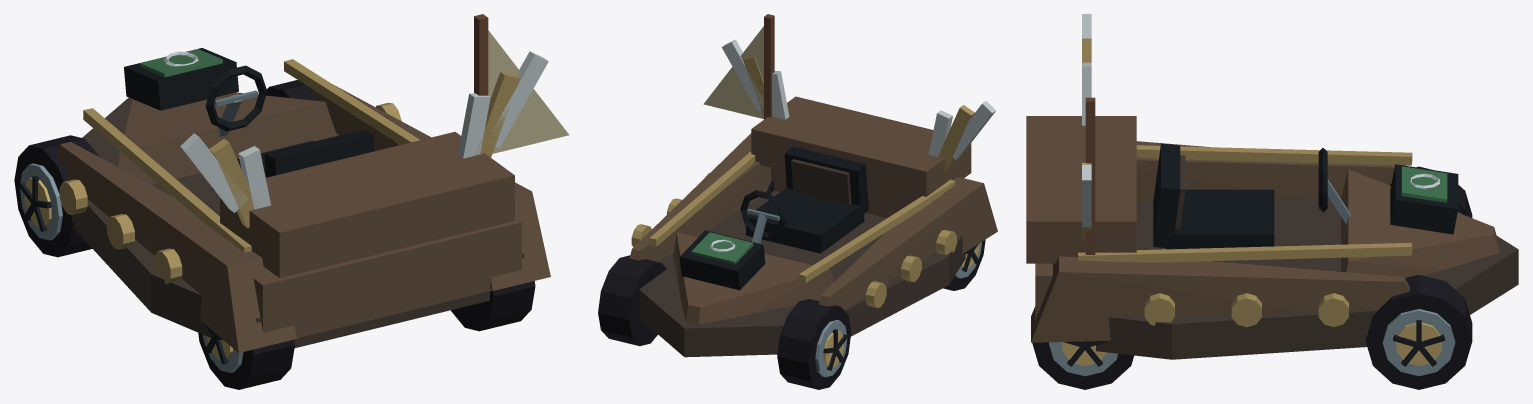
File: kart.glb
3 views of the same model, side by side, from view 1: azimuth 30°, elevation 25°; view 2: azimuth 150°, elevation 25°; view 3: azimuth 270°, elevation 25° (orthographic). The views are drawn at different scales.
Parts seen in each view (by area): view 1: identity-ship-ship-pointed-bow-and-raised-stern, identity-ship-motif-feathers, wheel-front-left, identity-ship-motif-scanner, identity-ship-driver-cockpit, identity-ship-motif-sail, wheel-rear-left, wheel-rear-right, wheel-front-right; view 2: identity-ship-ship-pointed-bow-and-raised-stern, identity-ship-driver-cockpit, wheel-front-left, identity-ship-motif-feathers, wheel-front-right, identity-ship-motif-scanner, identity-ship-motif-sail, wheel-rear-left; view 3: identity-ship-ship-pointed-bow-and-raised-stern, identity-ship-driver-cockpit, wheel-front-right, identity-ship-motif-scanner, wheel-rear-right, identity-ship-motif-feathers, identity-ship-motif-sail.
Boxes of the visible parts, box(x1,y1,x2,y2) form: identity-ship-ship-pointed-bow-and-raised-stern: box(57, 59, 550, 352); identity-ship-motif-feathers: box(180, 51, 548, 228); wheel-front-left: box(14, 135, 99, 257); identity-ship-motif-scanner: box(124, 48, 238, 110); identity-ship-driver-cockpit: box(205, 65, 374, 190); identity-ship-motif-sail: box(474, 14, 569, 153); wheel-rear-left: box(198, 323, 294, 389); wheel-rear-right: box(451, 281, 535, 331); wheel-front-right: box(266, 80, 316, 100); identity-ship-ship-pointed-bow-and-raised-stern: box(629, 96, 997, 357); identity-ship-driver-cockpit: box(740, 146, 868, 253); wheel-front-left: box(777, 299, 851, 389); identity-ship-motif-feathers: box(722, 39, 995, 171); wheel-front-right: box(598, 255, 666, 346); identity-ship-motif-scanner: box(679, 230, 765, 290); identity-ship-motif-sail: box(703, 14, 774, 119); wheel-rear-left: box(943, 239, 985, 290); identity-ship-ship-pointed-bow-and-raised-stern: box(1026, 116, 1518, 359); identity-ship-driver-cockpit: box(1153, 143, 1350, 249); wheel-front-right: box(1365, 274, 1472, 389); identity-ship-motif-scanner: box(1390, 164, 1458, 234); wheel-rear-right: box(1032, 341, 1133, 389); identity-ship-motif-feathers: box(1082, 14, 1091, 238); identity-ship-motif-sail: box(1085, 97, 1095, 254).
Bounding box in the file's own units: 2.33 × 1.74 × 2.77.
